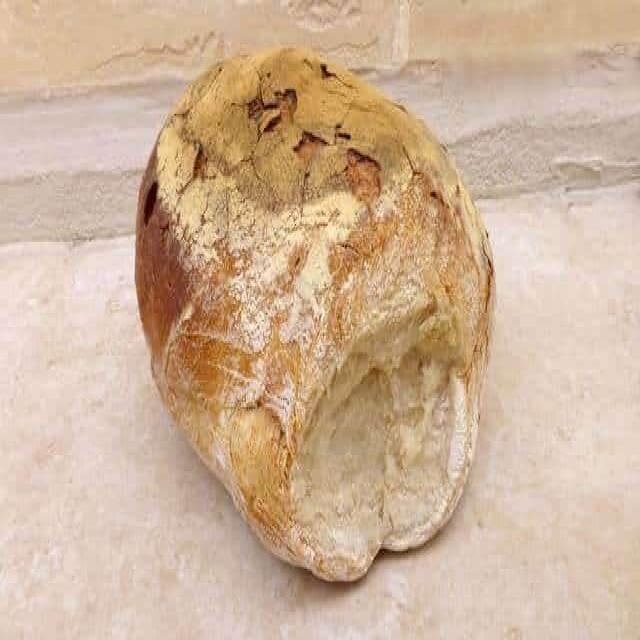Maltese-Bread: (136, 48, 494, 580)
